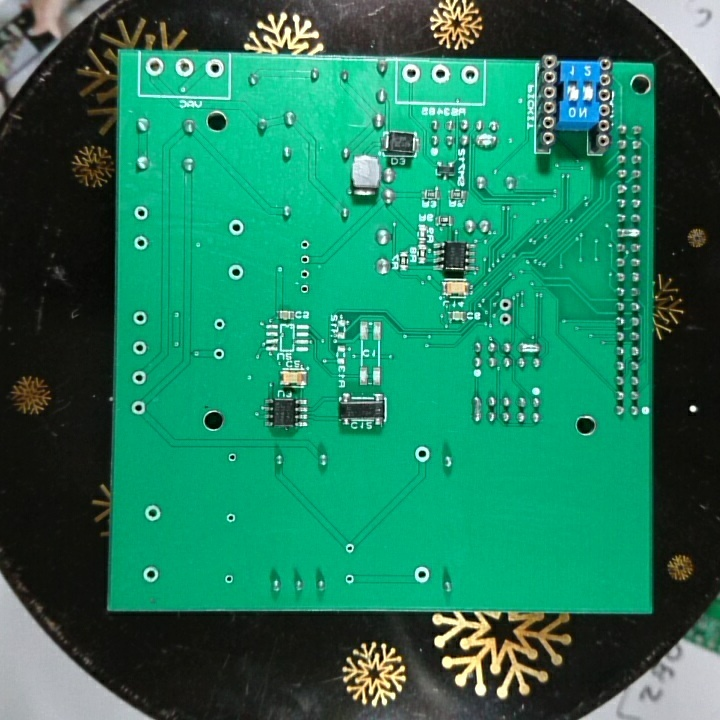F: (142, 501, 165, 528), (458, 61, 480, 86), (429, 62, 452, 85), (202, 58, 225, 81), (173, 57, 196, 80), (142, 56, 166, 78), (400, 62, 422, 84), (131, 232, 152, 255), (411, 563, 432, 586), (225, 262, 247, 283), (141, 563, 161, 586), (412, 444, 433, 465), (226, 218, 246, 239), (130, 308, 149, 330), (129, 338, 148, 359), (131, 203, 150, 223), (128, 368, 148, 387), (128, 399, 148, 418), (211, 315, 228, 334), (211, 346, 228, 364), (497, 312, 514, 329), (497, 296, 514, 312), (342, 540, 357, 557), (223, 511, 239, 526), (298, 252, 314, 267), (343, 571, 357, 588), (297, 266, 313, 280), (222, 572, 237, 586), (225, 451, 239, 466), (298, 281, 312, 296), (298, 238, 312, 252)
P: (472, 131, 500, 151), (613, 225, 643, 241), (517, 338, 542, 356), (470, 394, 484, 424)
